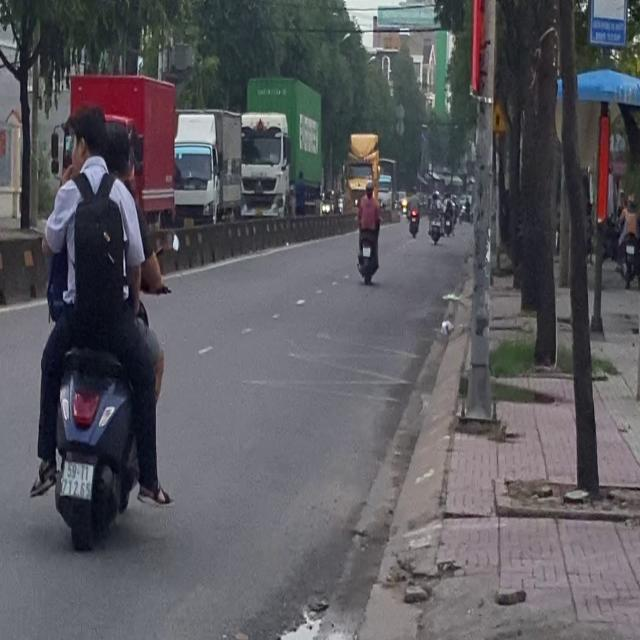licenseplate: (30, 93, 171, 554)
motorcyclist: (65, 103, 108, 170), (104, 116, 136, 186)
nohelmet: (61, 460, 92, 496)
